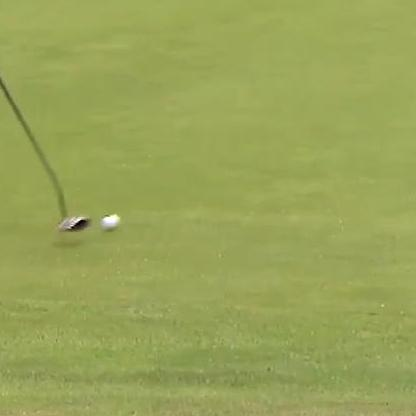golfball: (100, 211, 120, 231)
